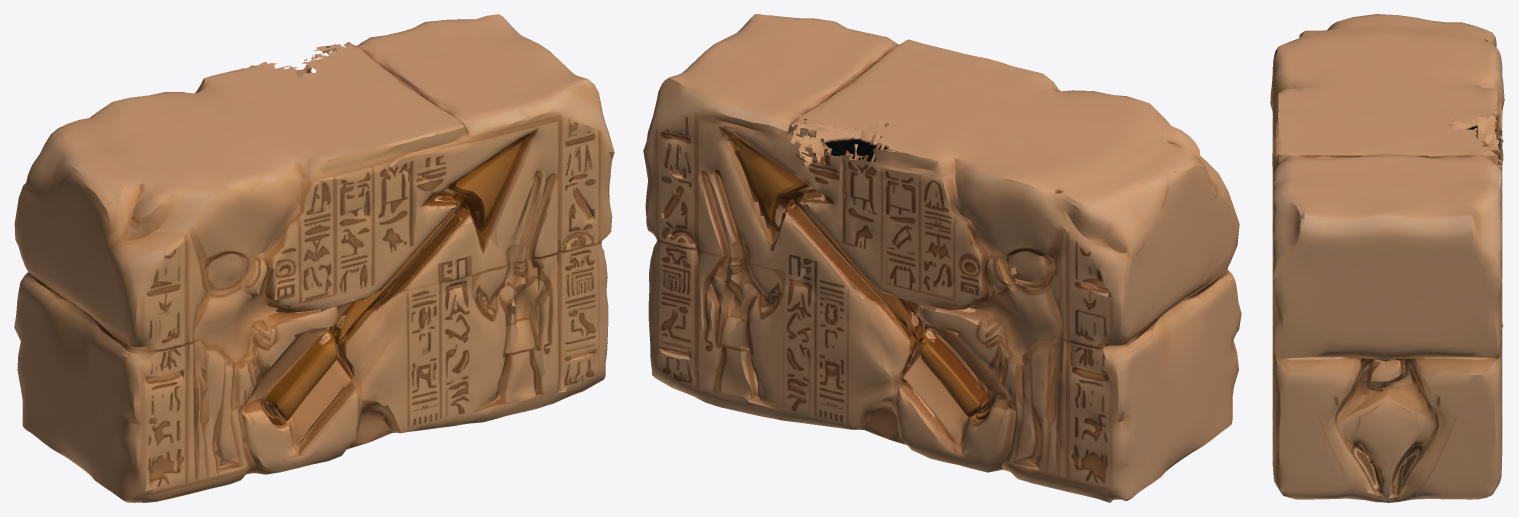
The model's file is pointerUI.fbx.
The picture shows the model from 3 angles, left to right: view 1: azimuth 30°, elevation 25°; view 2: azimuth 150°, elevation 25°; view 3: azimuth 270°, elevation 25°; orthographic projection. The views are drawn at different scales.
Visible parts, largest first — view 1: Mesh0; view 2: Mesh0; view 3: Mesh0.
Part boxes in pixels (x1=…): Mesh0: x1=14, y1=14, x2=614, y2=502; Mesh0: x1=643, y1=14, x2=1241, y2=502; Mesh0: x1=1270, y1=14, x2=1504, y2=502.
Size of the model in its own units: 493 by 300 by 219.
Materials: 1 (1 with a texture image).
